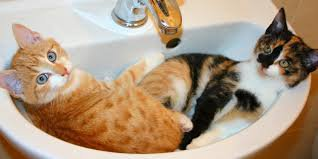cat: (7, 19, 197, 151), (168, 7, 318, 137)
